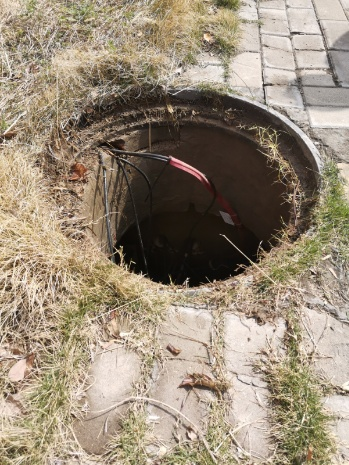lose: (43, 83, 327, 295)
